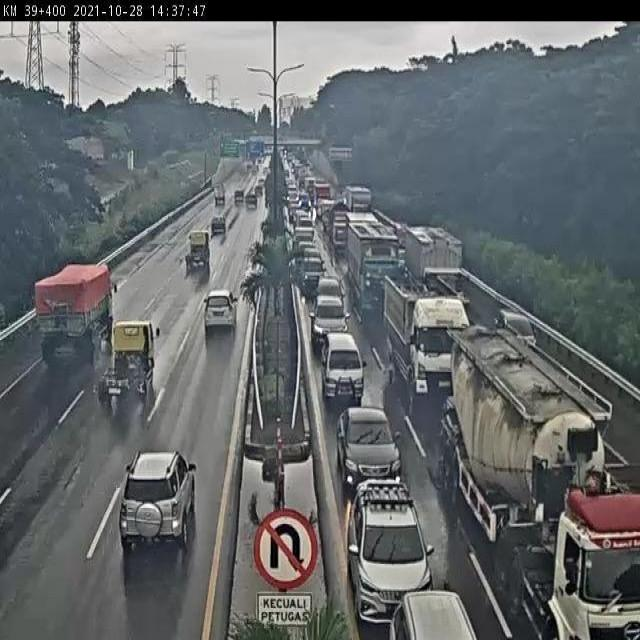big truck: (439, 334, 640, 640), (27, 247, 147, 368), (379, 268, 481, 408), (344, 214, 429, 334), (403, 221, 479, 316)
car: (324, 475, 477, 617), (100, 437, 212, 584), (322, 399, 420, 492), (378, 578, 500, 640), (312, 331, 391, 400), (195, 284, 253, 353), (493, 304, 550, 359), (309, 293, 363, 348), (198, 206, 241, 242), (298, 254, 331, 290), (232, 182, 248, 206), (252, 178, 266, 202), (243, 191, 259, 212)
small truck: (85, 314, 179, 434), (175, 218, 229, 286), (212, 179, 231, 205)
